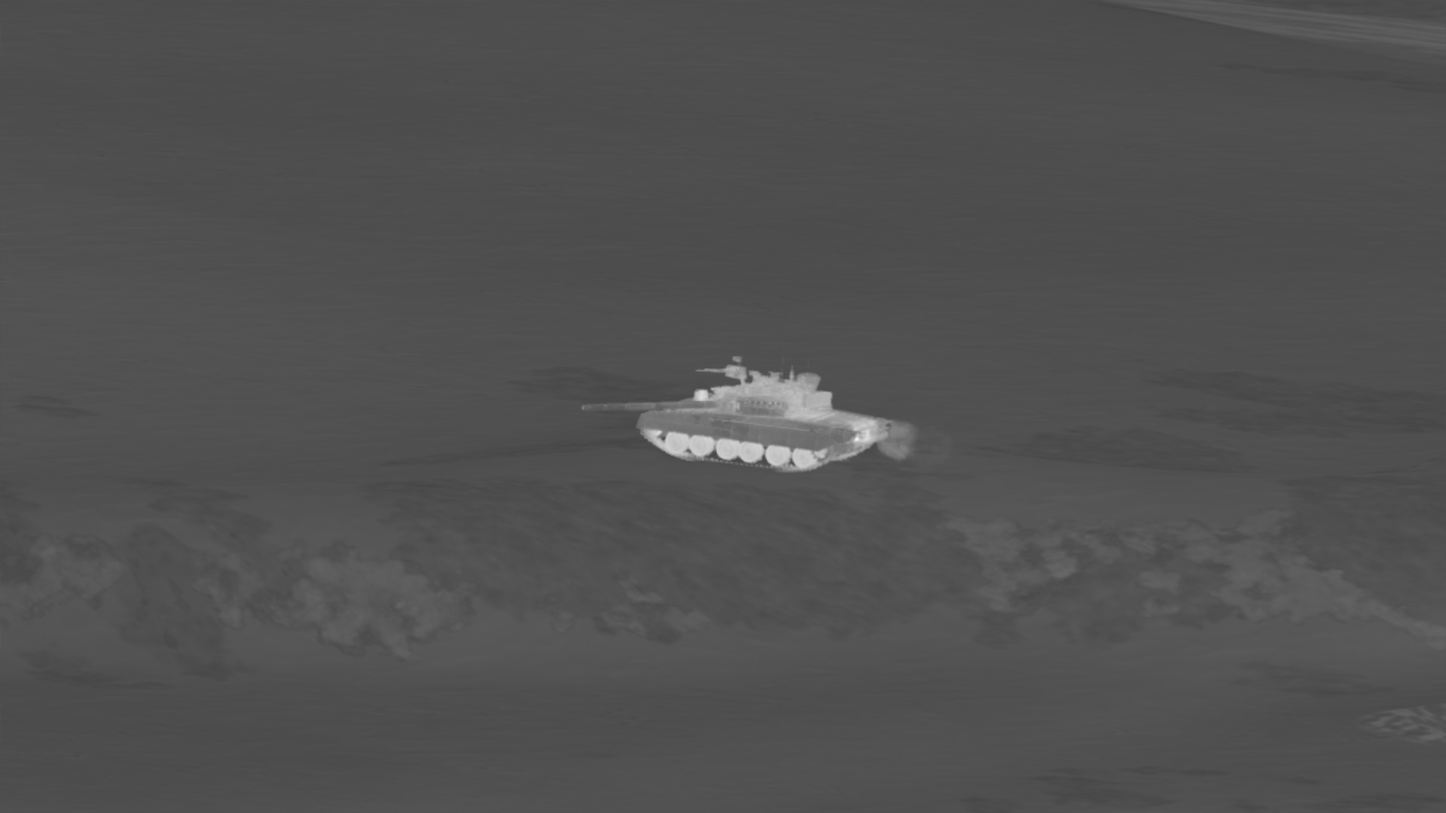t-80u: (581, 356, 890, 473)
